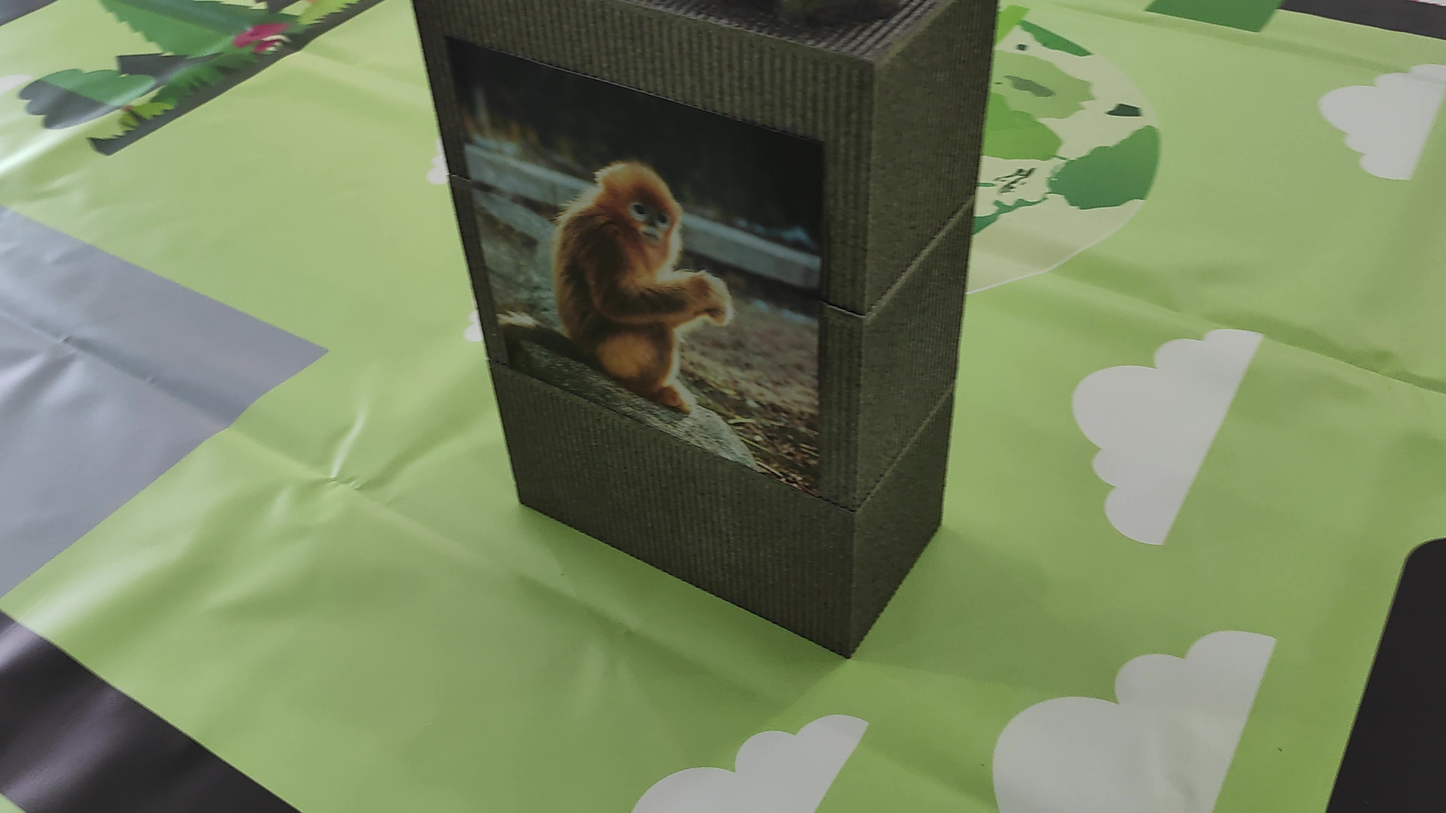monkey: (513, 134, 768, 415)
